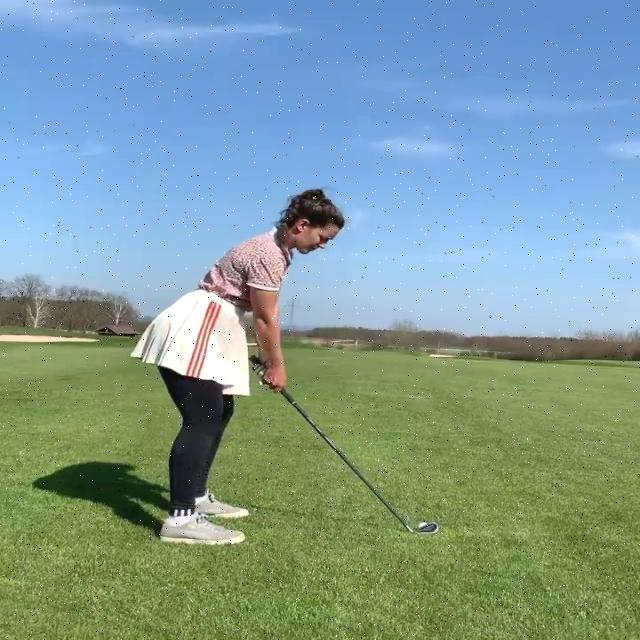golf ball: (416, 521, 425, 529)
golf club-handle: (250, 356, 437, 536)
golf club-head: (413, 524, 436, 538)
